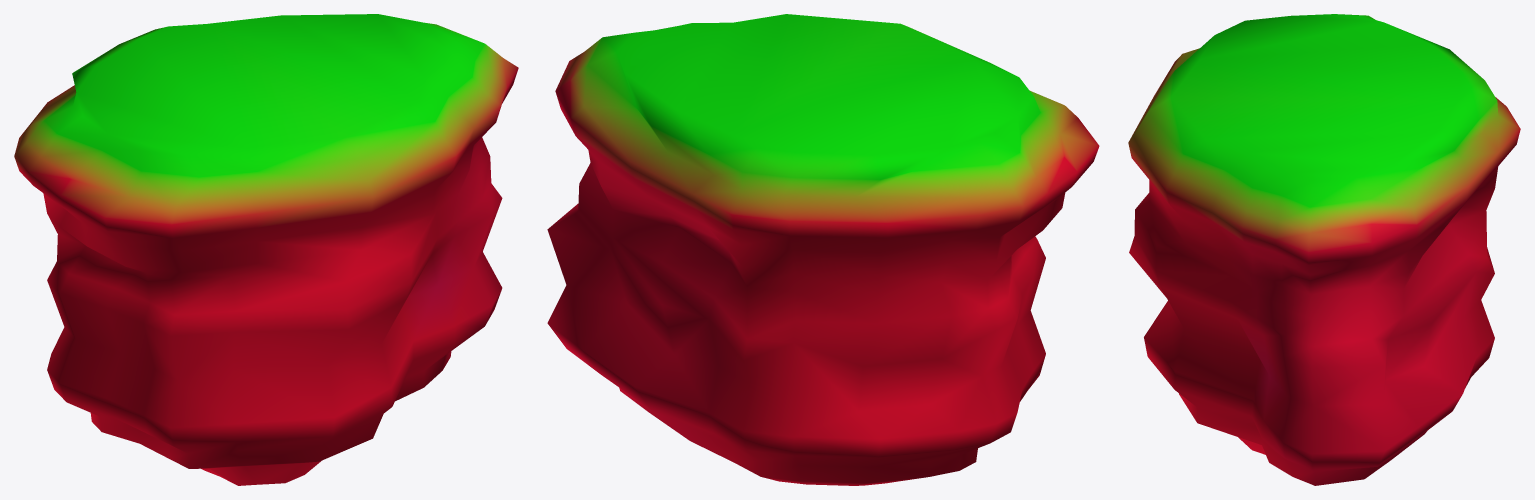
Rendered from Tropics Floating Island.fbx.
The picture shows the model from 3 angles, left to right: view 1: azimuth 30°, elevation 25°; view 2: azimuth 150°, elevation 25°; view 3: azimuth 270°, elevation 25°; orthographic projection. The views are drawn at different scales.
Parts seen in each view (by area): view 1: Floating Island; view 2: Floating Island; view 3: Floating Island.
Part boxes in pixels (x1,y1,x2,y2): Floating Island: (14,14,518,485); Floating Island: (547,14,1099,485); Floating Island: (1128,14,1520,485).
Size of the model in its own units: 3919 by 3020 by 2944.
